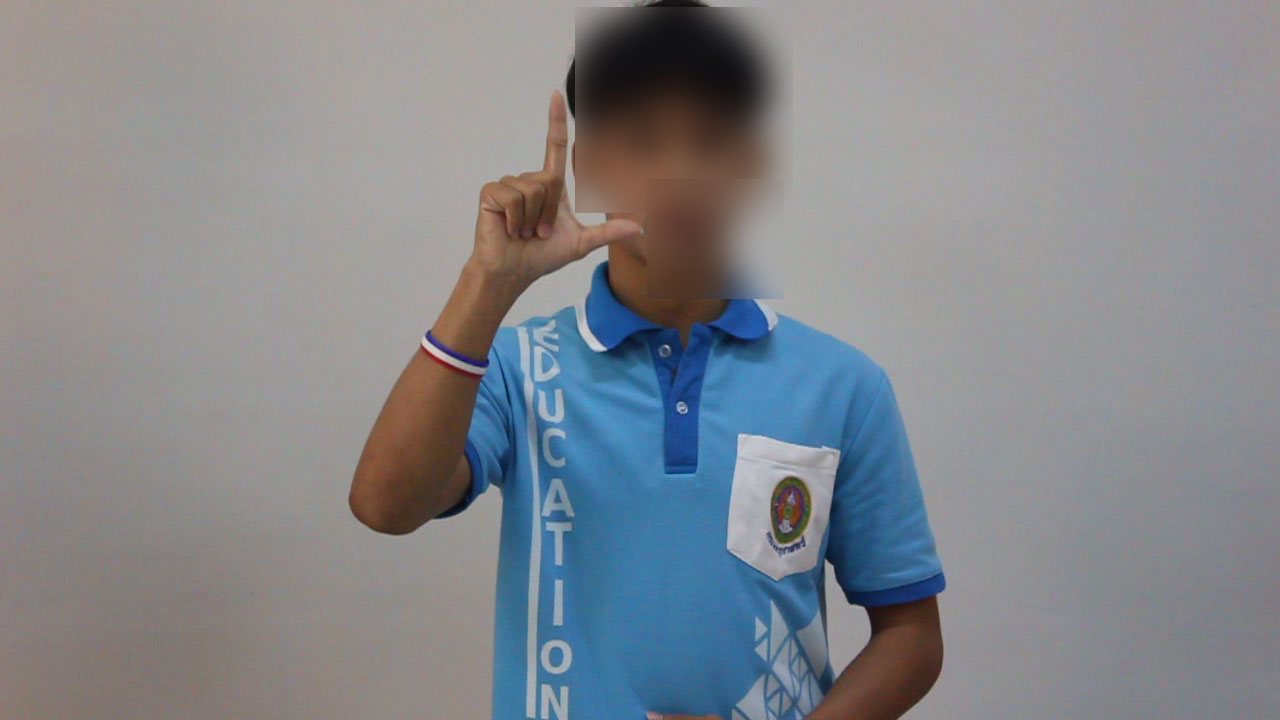lor: (427, 74, 660, 286)
